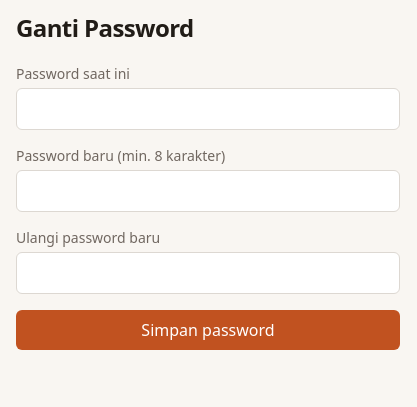
Scenario: ChangePasswordView › menampilkan error validasi Laravel (password lama salah)
Type "salah" into the password field labelled "Password saat ini".
click(208, 109); type("salah")  # box [16,88,400,130]
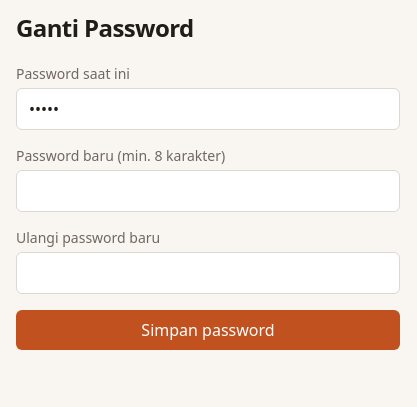
Type "password-baru-9" into the password field labelled "Password baru (min. 8 karakter)".
click(208, 191); type("password-baru-9")  # box [16,170,400,212]
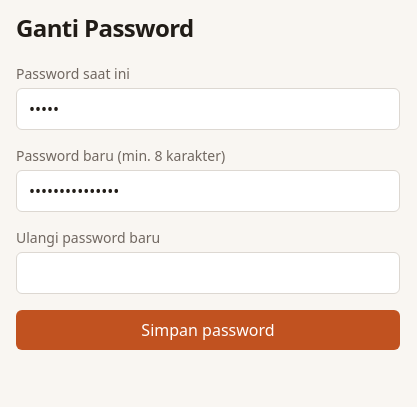
Type "password-baru-9" into the password field labelled "Ulangi password baru".
click(208, 273); type("password-baru-9")  # box [16,252,400,294]
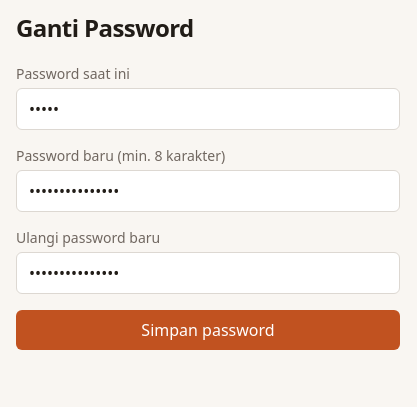
Submit the form
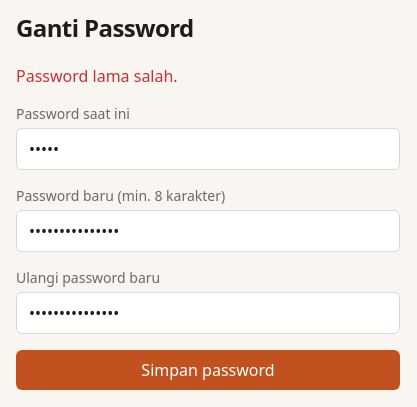
Result: the message with test id "change-error" reads "Password lama salah." at [16,65,178,87]
